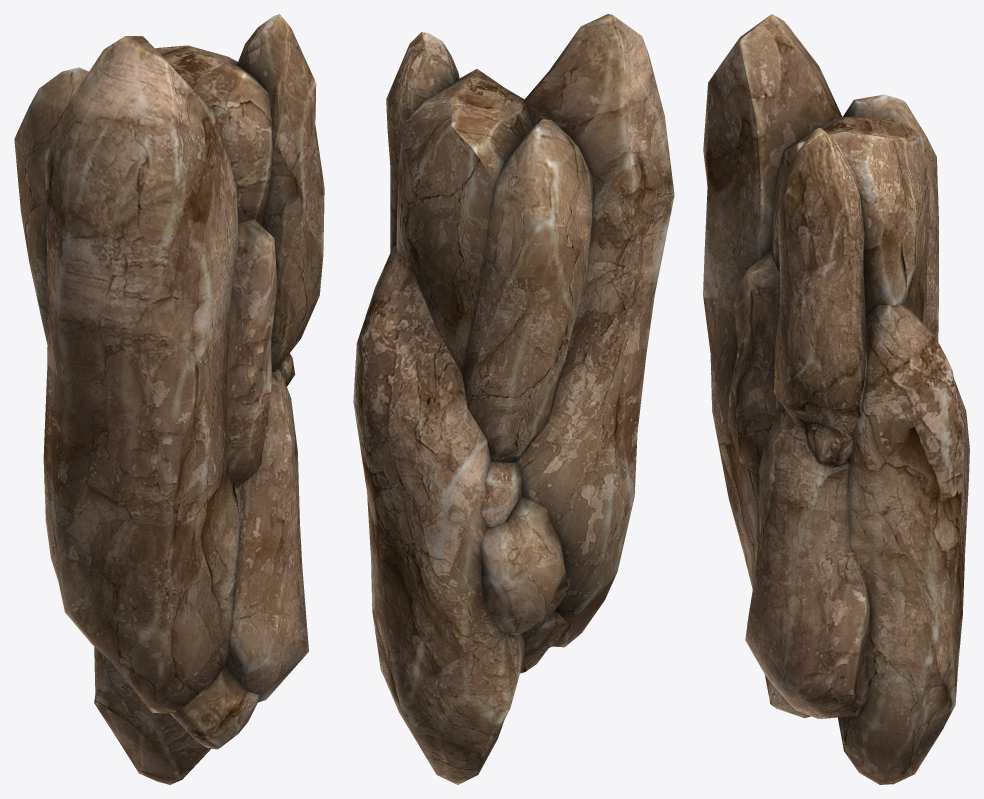
Rendered from rock.glb.
3 renders of one model, left to right at view 1: azimuth 30°, elevation 25°; view 2: azimuth 150°, elevation 25°; view 3: azimuth 270°, elevation 25°, orthographic. The views are drawn at different scales.
Visible parts, largest first — view 1: RockForm01_LP; view 2: RockForm01_LP; view 3: RockForm01_LP.
Part boxes in pixels (x1,y1,x2,y2): RockForm01_LP: (14, 14, 324, 784); RockForm01_LP: (353, 14, 674, 784); RockForm01_LP: (703, 14, 969, 784).
Size of the model in its own units: 3.2 by 8.83 by 2.94.
Materials: 1 (1 with a texture image).
